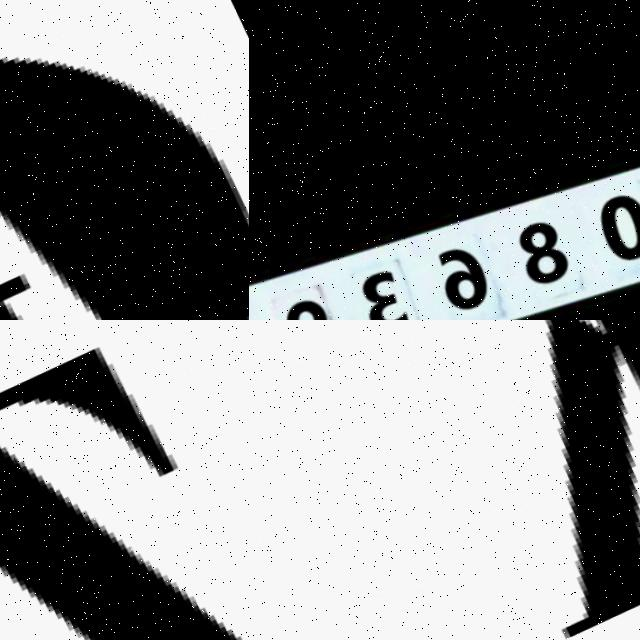0: (570, 173, 640, 291)
3: (336, 251, 424, 320)
6: (411, 223, 509, 320)
8: (493, 201, 588, 310)
9: (257, 274, 351, 320)
G: (0, 0, 249, 320)
K: (294, 320, 640, 640)
Z: (0, 320, 249, 640)
